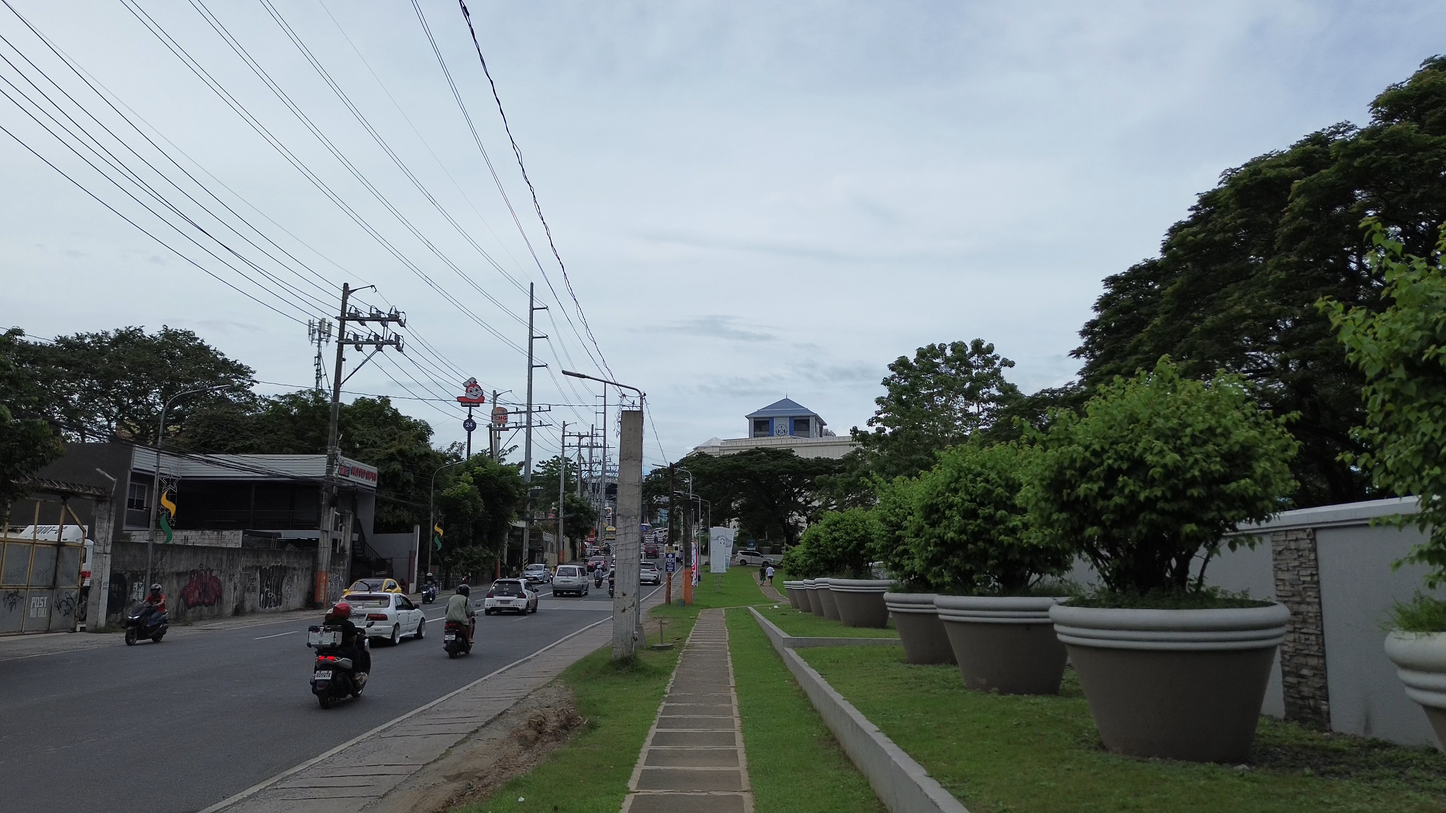car: (346, 592, 425, 644), (483, 579, 538, 615), (343, 577, 403, 596), (736, 550, 775, 566), (639, 562, 661, 585)
motorcycle: (307, 625, 367, 708), (125, 606, 168, 645), (444, 621, 472, 658), (421, 583, 437, 604), (608, 573, 615, 597), (595, 569, 603, 588)
vehicle: (551, 565, 589, 596), (522, 563, 552, 584), (643, 540, 659, 558), (588, 554, 605, 570), (593, 567, 605, 588), (604, 526, 616, 541)
